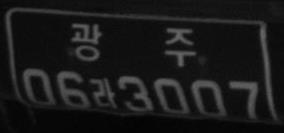0: (191, 78, 228, 116), (155, 76, 191, 114), (22, 66, 56, 106)
3: (118, 74, 154, 112)
6: (56, 69, 91, 109)
7: (228, 79, 260, 119)
광주_D: (70, 22, 196, 67)
라: (91, 76, 118, 109)
